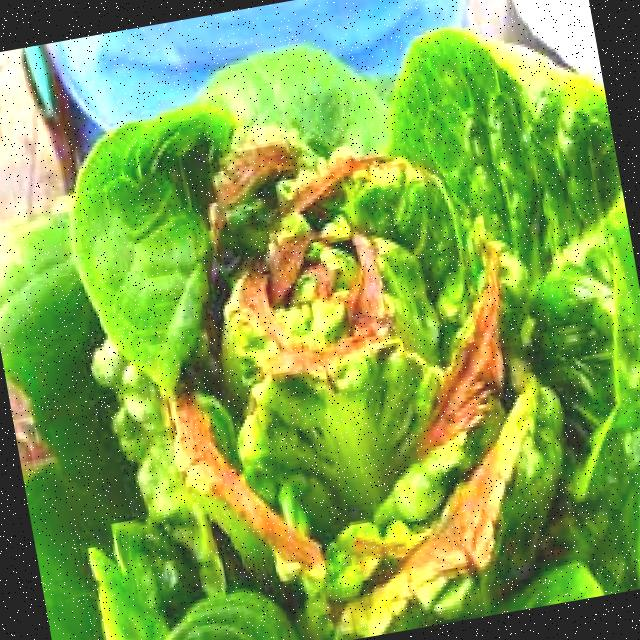Viral: (96, 89, 587, 640)
